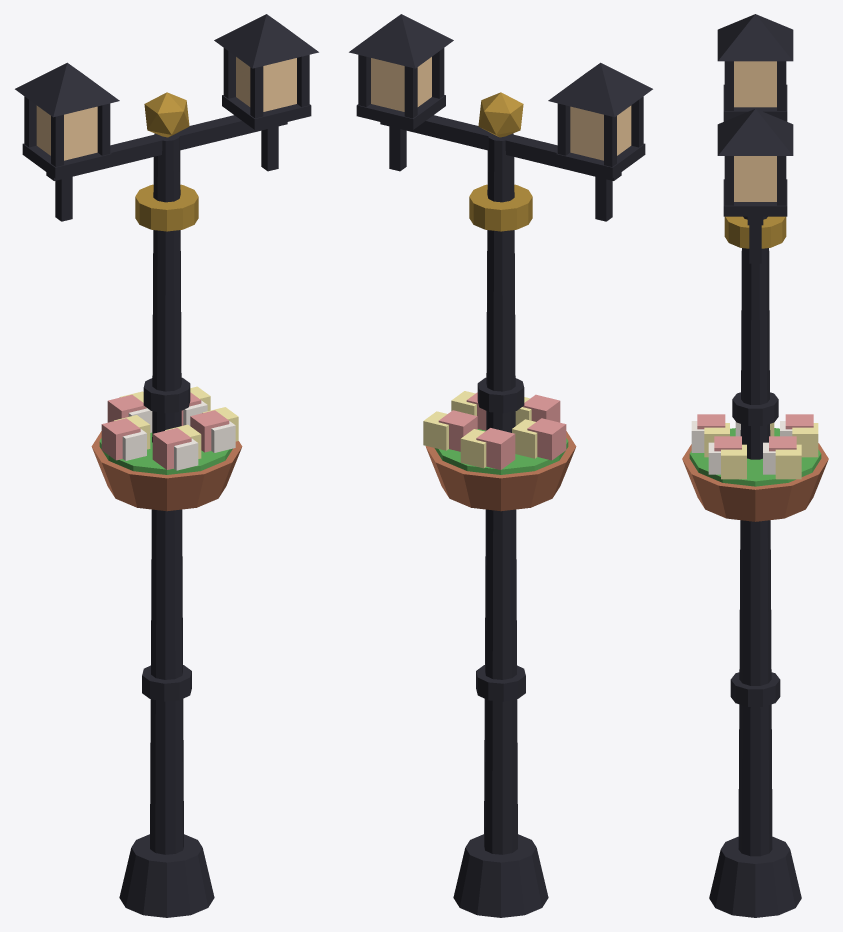
The model's file is CatCafe_Square_Lamp.glb.
The picture shows the model from 3 angles, left to right: view 1: azimuth 30°, elevation 25°; view 2: azimuth 150°, elevation 25°; view 3: azimuth 270°, elevation 25°; orthographic projection. The views are drawn at different scales.
Visible parts, largest first — view 1: CatCafe_Square_Lamp, CatCafe_Square_Lamp_Flowers, CatCafe_Square_Lamp_Bulb; view 2: CatCafe_Square_Lamp, CatCafe_Square_Lamp_Flowers, CatCafe_Square_Lamp_Bulb; view 3: CatCafe_Square_Lamp, CatCafe_Square_Lamp_Flowers, CatCafe_Square_Lamp_Bulb.
Boxes of the visible parts, bbox=[...] form: CatCafe_Square_Lamp: bbox=[15, 14, 318, 917]; CatCafe_Square_Lamp_Flowers: bbox=[99, 386, 238, 474]; CatCafe_Square_Lamp_Bulb: bbox=[36, 57, 296, 160]; CatCafe_Square_Lamp: bbox=[349, 14, 652, 917]; CatCafe_Square_Lamp_Flowers: bbox=[423, 391, 568, 474]; CatCafe_Square_Lamp_Bulb: bbox=[371, 57, 631, 160]; CatCafe_Square_Lamp: bbox=[682, 14, 828, 917]; CatCafe_Square_Lamp_Flowers: bbox=[689, 414, 821, 486]; CatCafe_Square_Lamp_Bulb: bbox=[734, 61, 776, 201].
Size of the model in its own units: 3.88 by 11.95 by 1.9.
Materials: 1 (1 with a texture image).
